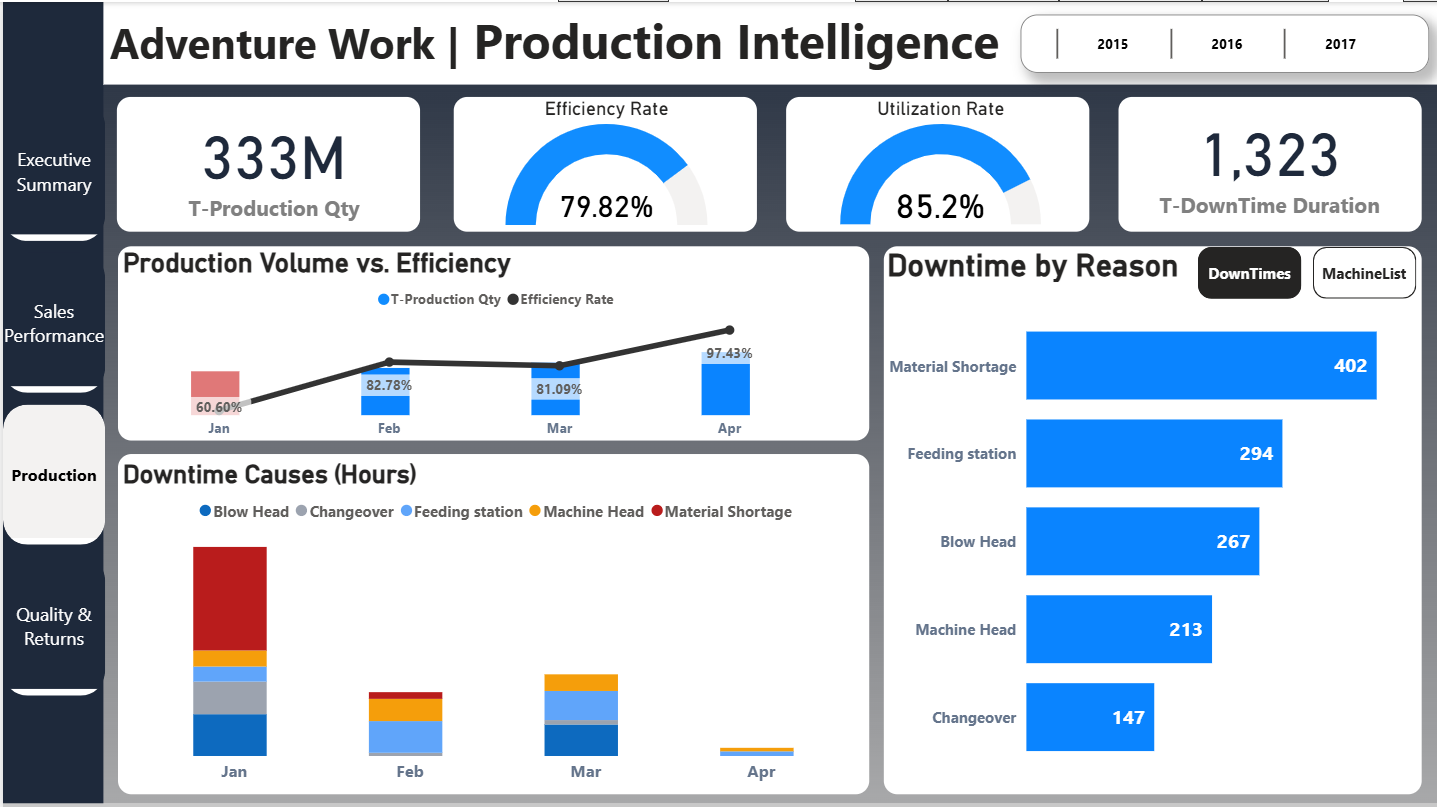

This screenshot's page, from the dashboard's own definition file:
{"tool":"powerbi","page":{"name":"Production","canvas":[1280,720],"ordinal":2},"visuals":[{"type":"card","fields":{"Values":["_Measures.T-Production Qty"]},"box":[106.9,84.6,269.4,119.1],"z":0},{"type":"gauge","title":"Efficiency Rate","fields":{"Y":["_Measures.Effeciency Rate"]},"box":[404.1,84.6,267.2,119.1],"z":1000},{"type":"gauge","fields":{"Y":["_Measures.Utilization Rate"]},"box":[697.5,85.1,274.5,118.7],"z":2000},{"type":"card","fields":{"Values":["_Measures.T-DownTime Duration"]},"box":[996.3,84.6,263.8,113.5],"z":3000},{"type":"textbox","box":[90.2,0,816,72.4],"z":4000},{"type":"clusteredBarChart","title":"Downtime by Reason","fields":{"Y":["_Measures.T-DownTime Duration"],"Category":["Fact_Downtimes.Downtime"]},"box":[782.6,218.2,487.6,487.6],"z":5000},{"type":"slicer","fields":{"Values":["Dim_Date.Year"]},"box":[906.1,11.1,364,52.3],"z":6000},{"type":"bookmarkNavigator","box":[1064.6,218,195.2,46.9],"z":8000},{"type":"lineClusteredColumnComboChart","title":"Production Volume vs. Efficiency","fields":{"Y2":["_Measures.Effeciency Rate"],"Category":["Dim_Date.Year Hierarchy.MonthName"],"Y":["_Measures.T-Production Qty"]},"box":[106.5,218,667.9,180],"z":9000},{"type":"pageNavigator","box":[0,87.9,91.3,532.1],"z":10000},{"type":"columnChart","title":"Downtime Causes (Hours)","fields":{"Category":["Dim_Date.Year Hierarchy.MonthName"],"Y":["_Measures.T-DownTime Duration"],"Series":["Fact_Downtimes.Downtime"]},"box":[106.5,406.8,667.9,299.1],"z":11000}]}

Visuals, with their boxes in screenshot pixels (x1, y1, x2, y2), scaled from the page's 1280x720 canvas onto the 1437x807 screenshot:
card - _Measures.T-Production Qty: bbox=[120, 95, 422, 228]
"Efficiency Rate" gauge: bbox=[454, 95, 754, 228]
gauge - _Measures.Utilization Rate: bbox=[783, 95, 1091, 228]
card - _Measures.T-DownTime Duration: bbox=[1119, 95, 1415, 222]
textbox: bbox=[101, 0, 1017, 81]
"Downtime by Reason" clusteredBarChart: bbox=[879, 245, 1426, 791]
slicer - Dim_Date.Year: bbox=[1017, 12, 1426, 71]
bookmarkNavigator: bbox=[1195, 244, 1414, 297]
"Production Volume vs. Efficiency" lineClusteredColumnComboChart: bbox=[120, 244, 869, 446]
pageNavigator: bbox=[0, 99, 102, 695]
"Downtime Causes (Hours)" columnChart: bbox=[120, 456, 869, 791]
